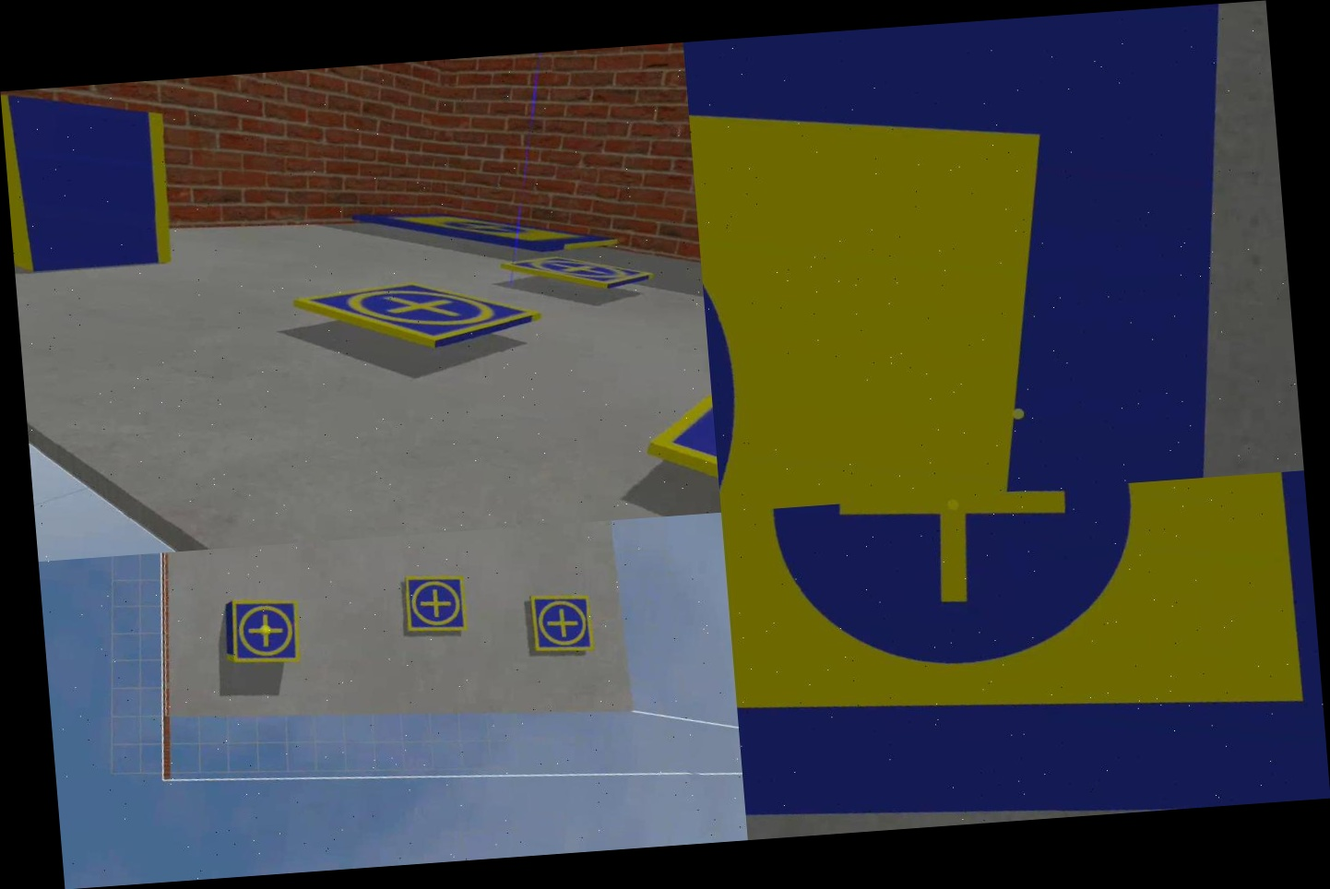large_base: (683, 0, 1303, 513), (721, 470, 1330, 839), (348, 182, 623, 278)
small_base: (287, 252, 544, 373), (504, 239, 658, 307), (219, 591, 313, 676), (520, 586, 606, 665), (394, 567, 478, 643)
